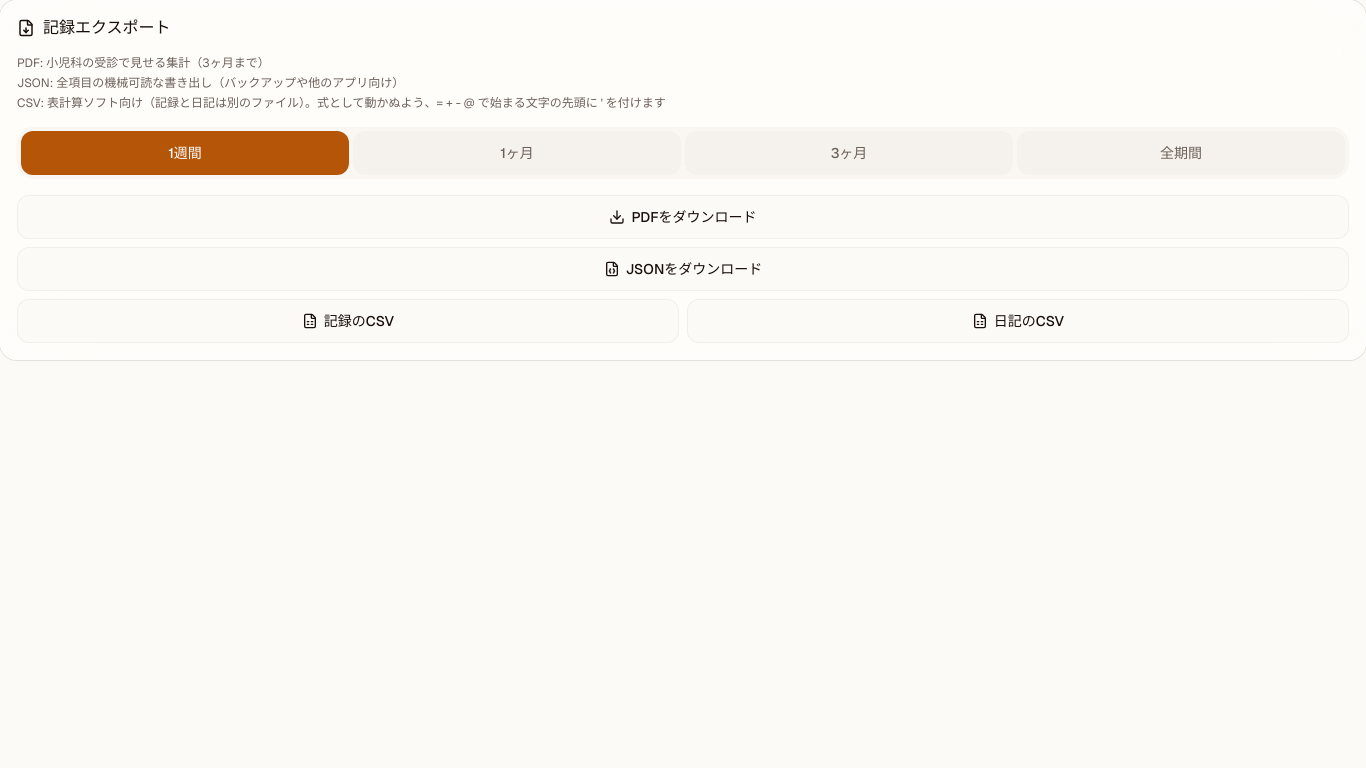
Test: ExportCard: 分割回収（続きを書き出す） › 期間を変えたら前の続きを捨てる（別の範囲の続きを混ぜぬ）
Click the button "全期間". click: (1181, 153)
box: [1017, 131, 1345, 175]
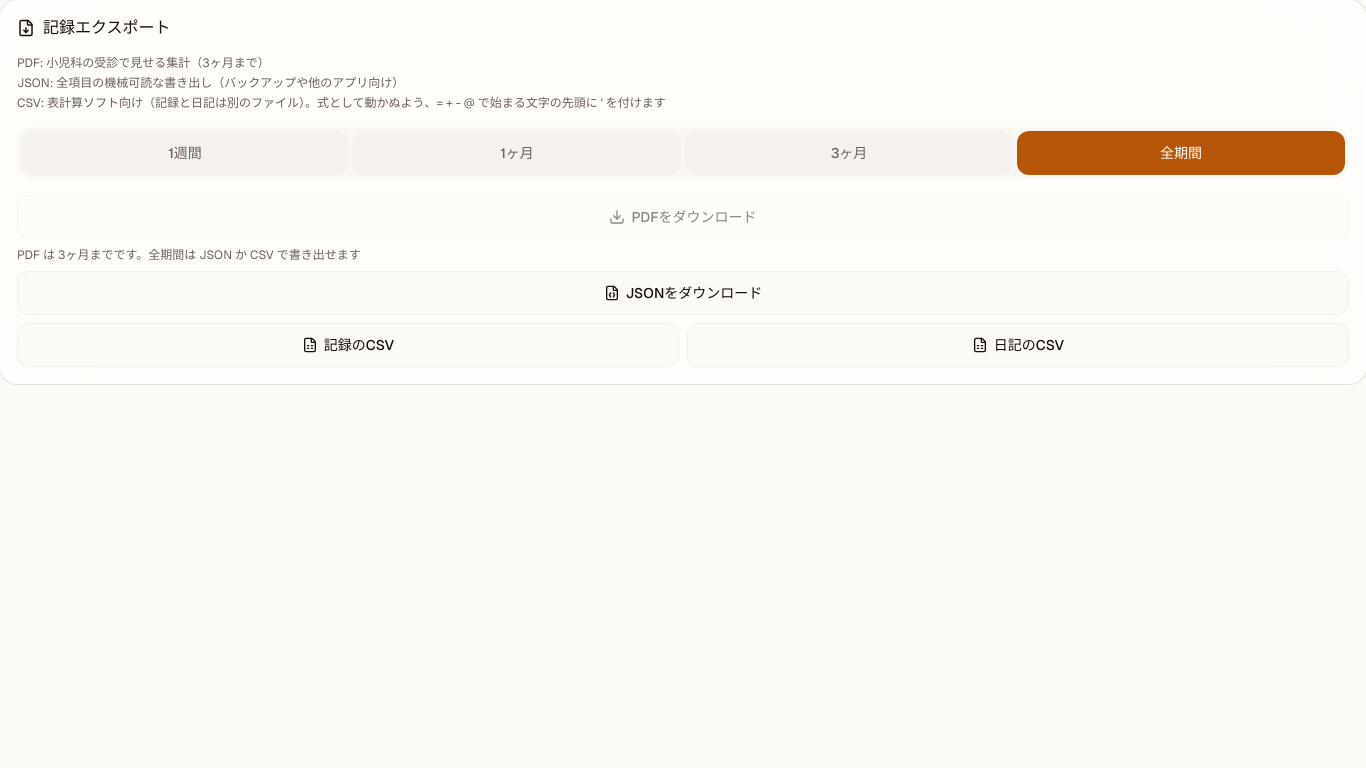
Click the button "JSONをダウンロード". click: (683, 293)
box: [17, 271, 1349, 315]
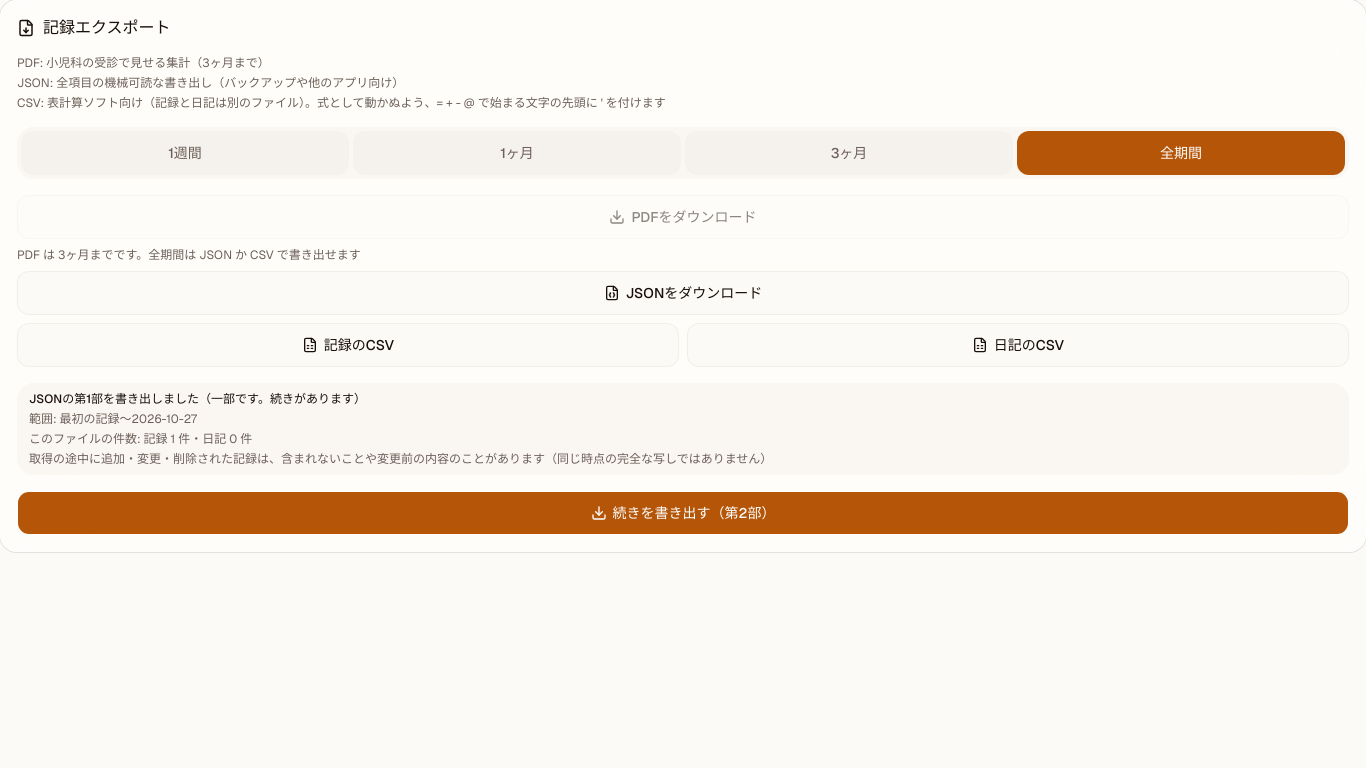
Now the button "続きを書き出す（第2部）" is shown, box [17, 491, 1349, 535]
Click the button "1ヶ月". click: (517, 153)
box: [353, 131, 681, 175]
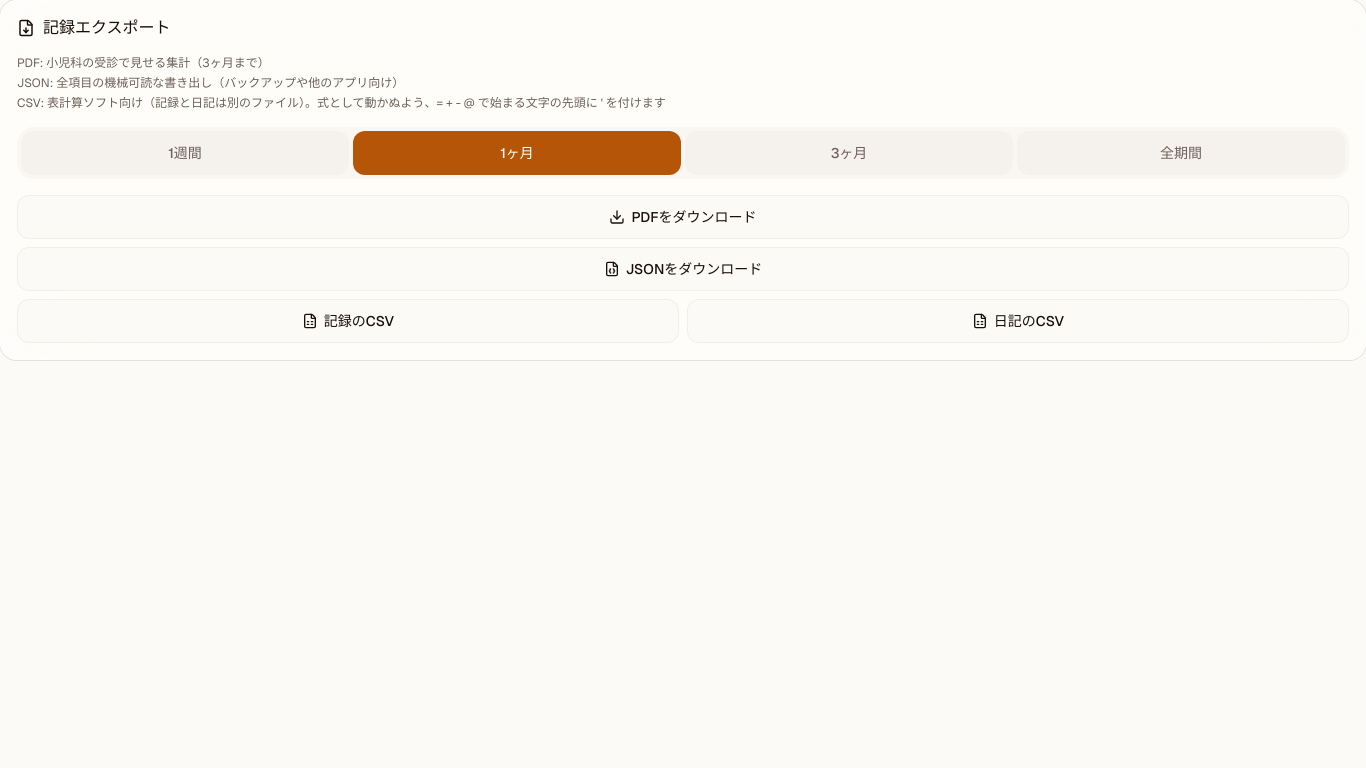
Now the button "続きを書き出す" is gone
